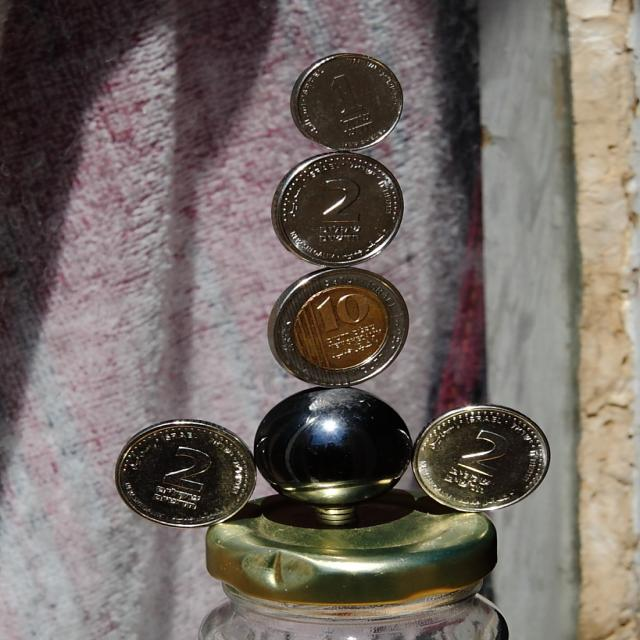Coin: (261, 265, 413, 386), (268, 147, 404, 264), (411, 401, 549, 514), (109, 419, 250, 527), (286, 51, 413, 148)
